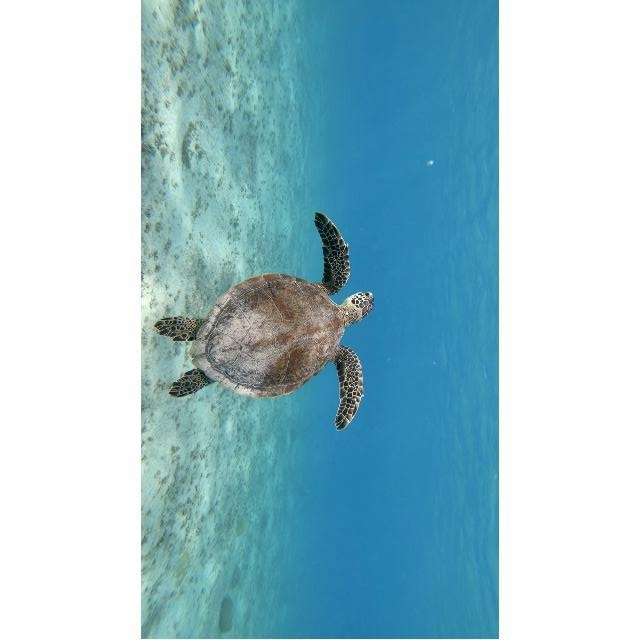turtle: (154, 212, 374, 432)
